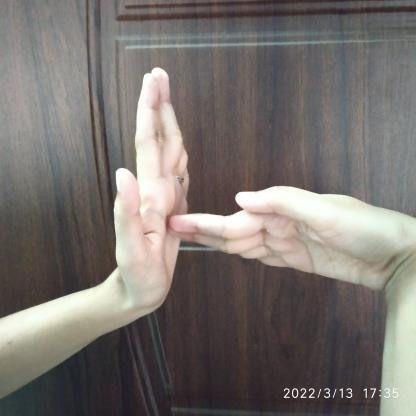Z: (104, 58, 392, 338)
